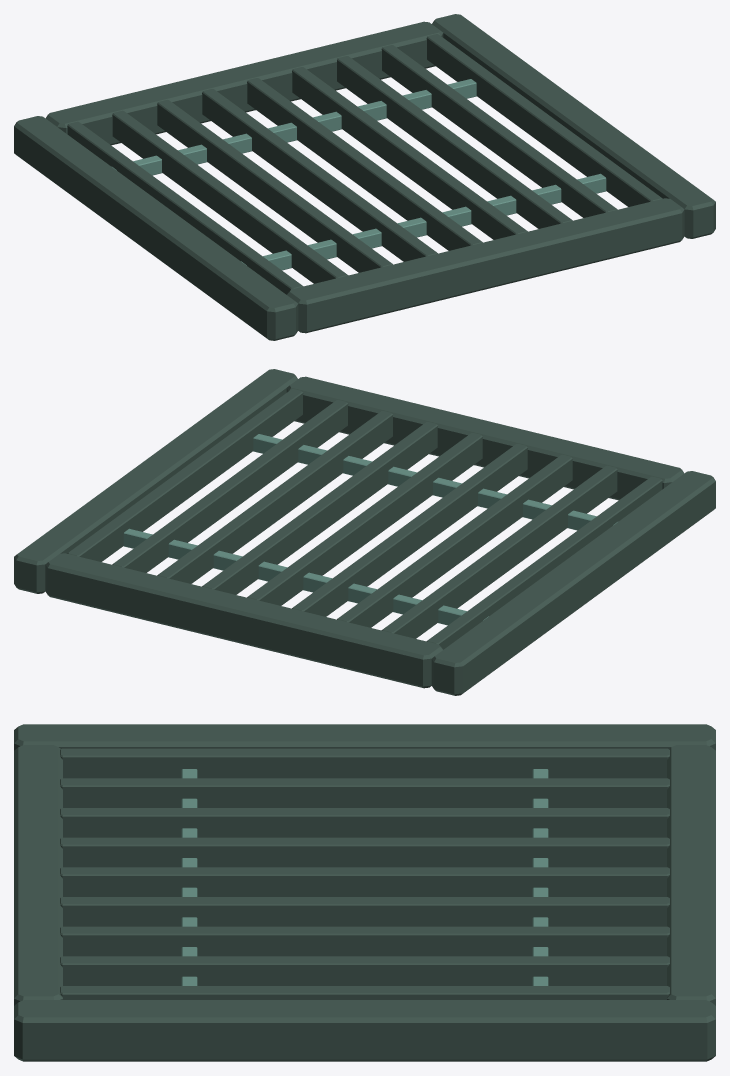
File: floor-grate.glb
3 views of the same model, one above another, from view 1: azimuth 30°, elevation 25°; view 2: azimuth 150°, elevation 25°; view 3: azimuth 270°, elevation 25° (orthographic). The views are drawn at different scales.
Visible parts, largest first — view 1: floor-grate__body; view 2: floor-grate__body; view 3: floor-grate__body.
Part boxes in pixels (left/top/right/bottom): floor-grate__body: left=14, top=14, right=715, bottom=340; floor-grate__body: left=14, top=369, right=715, bottom=695; floor-grate__body: left=14, top=724, right=715, bottom=1061.
Bounding box in the file's own units: 2 × 0.14 × 2.
